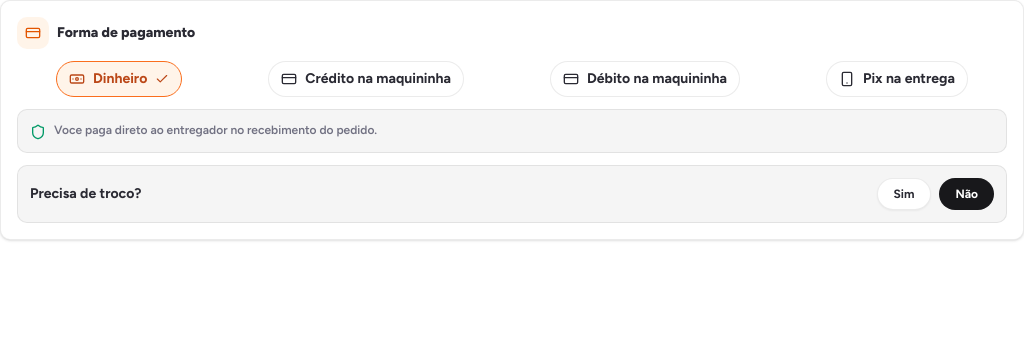
Test: PaymentMethod › responder 'Não' esconde o campo e apaga o valor
Click the button "Sim" at (904, 194), box top-left (876, 178), bottom-right (931, 210)
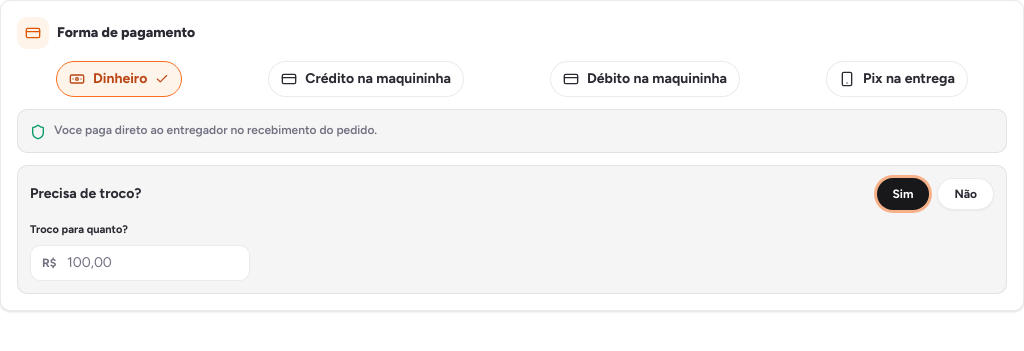
Type "50" into the field labelled "Troco para quanto?" at (140, 262), box top-left (30, 244), bottom-right (250, 280)
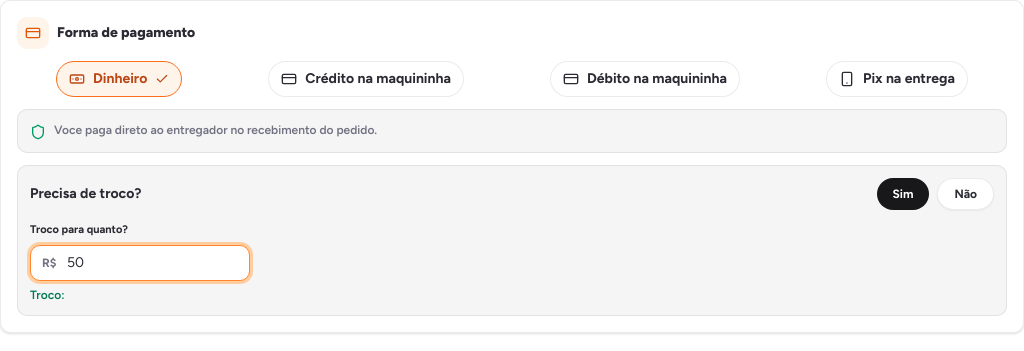
Click the button "Não" at (966, 194), box top-left (937, 178), bottom-right (994, 210)
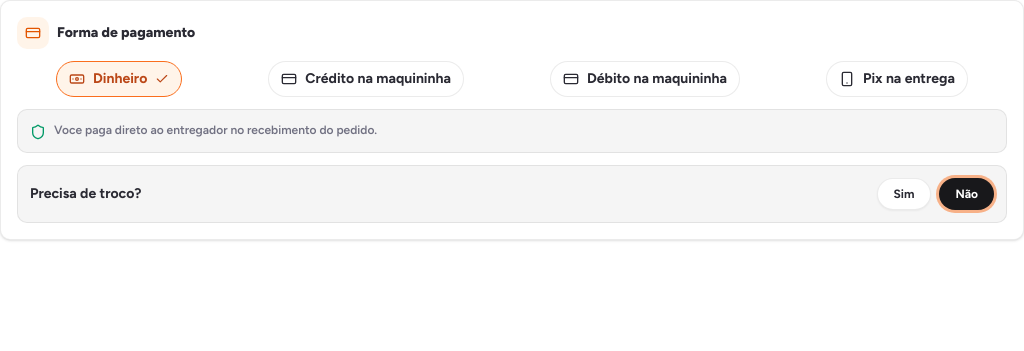
Expected: the label labelled "Troco para quanto?" is gone
